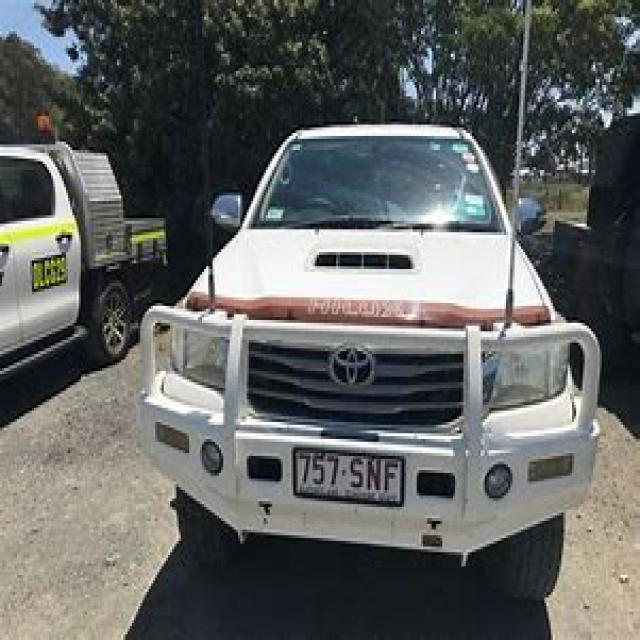light_vehicle: (145, 82, 598, 632)
